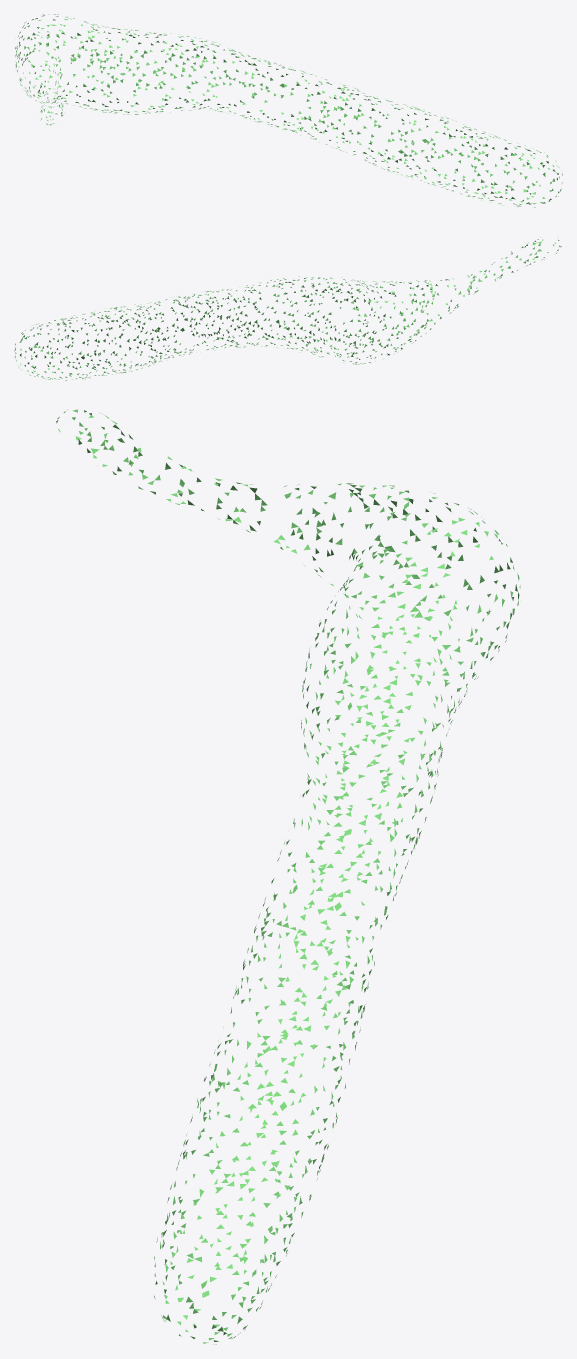
File: morph_017.glb
3 renders of one model, top to bottom at view 1: azimuth 30°, elevation 25°; view 2: azimuth 150°, elevation 25°; view 3: azimuth 270°, elevation 25°, orthographic. The views are drawn at different scales.
Size of the model in its own units: 113 by 48.68 by 44.4.
